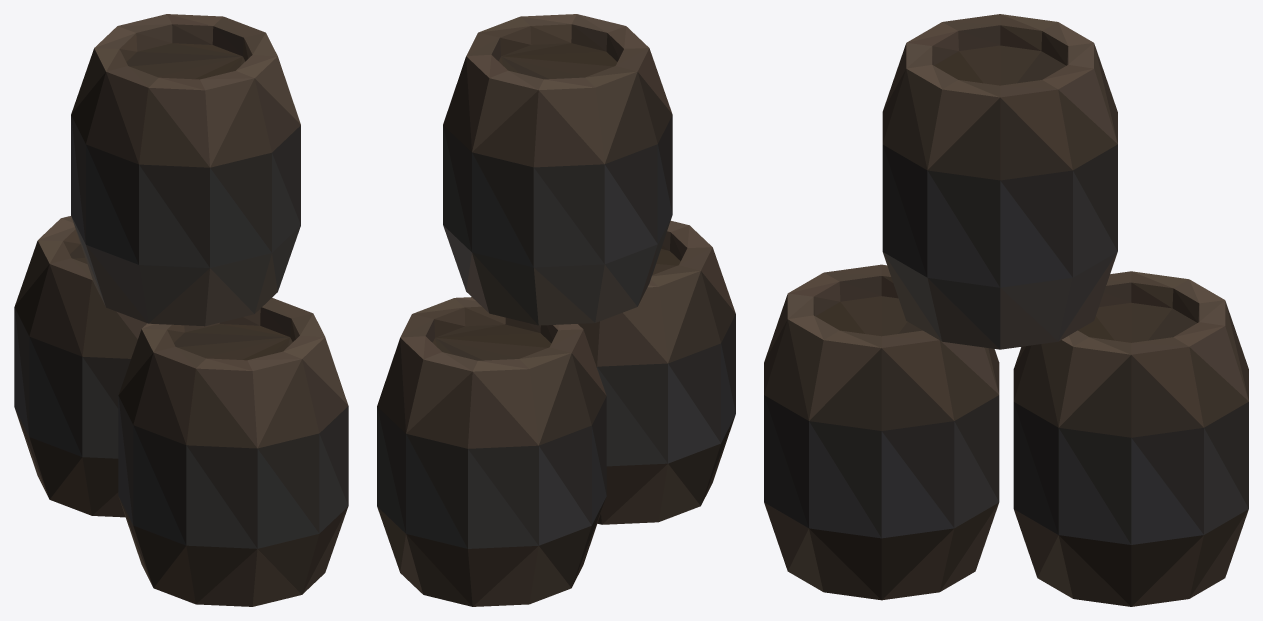
Rendered from prop_container_barrel_stack_1.fbx.
The picture shows the model from 3 angles, left to right: view 1: azimuth 30°, elevation 25°; view 2: azimuth 150°, elevation 25°; view 3: azimuth 270°, elevation 25°; orthographic projection. The views are drawn at different scales.
Parts seen in each view (by area): view 1: prop_container_barrel_stack_1; view 2: prop_container_barrel_stack_1; view 3: prop_container_barrel_stack_1.
Boxes of the visible parts, x1,y1,x2,y2 form: prop_container_barrel_stack_1: (14, 14, 348, 606); prop_container_barrel_stack_1: (377, 14, 735, 606); prop_container_barrel_stack_1: (764, 14, 1248, 606).
Bounding box in the file's own units: 1.14 × 2.42 × 2.09.
